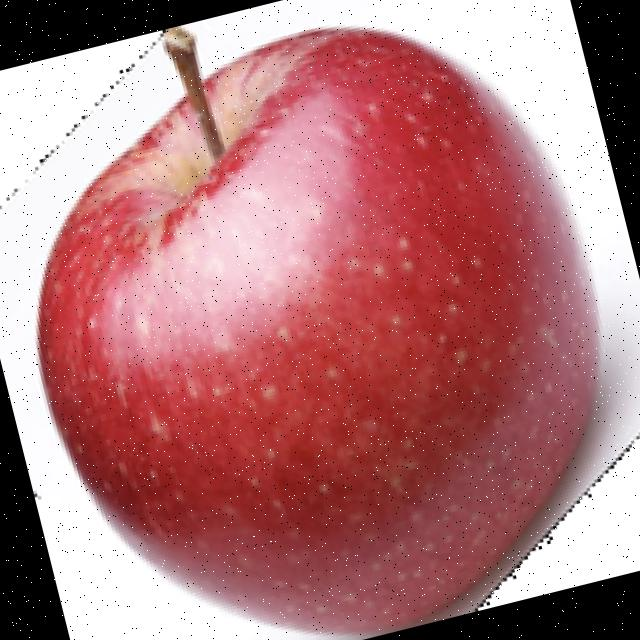apple: (30, 20, 640, 640)
